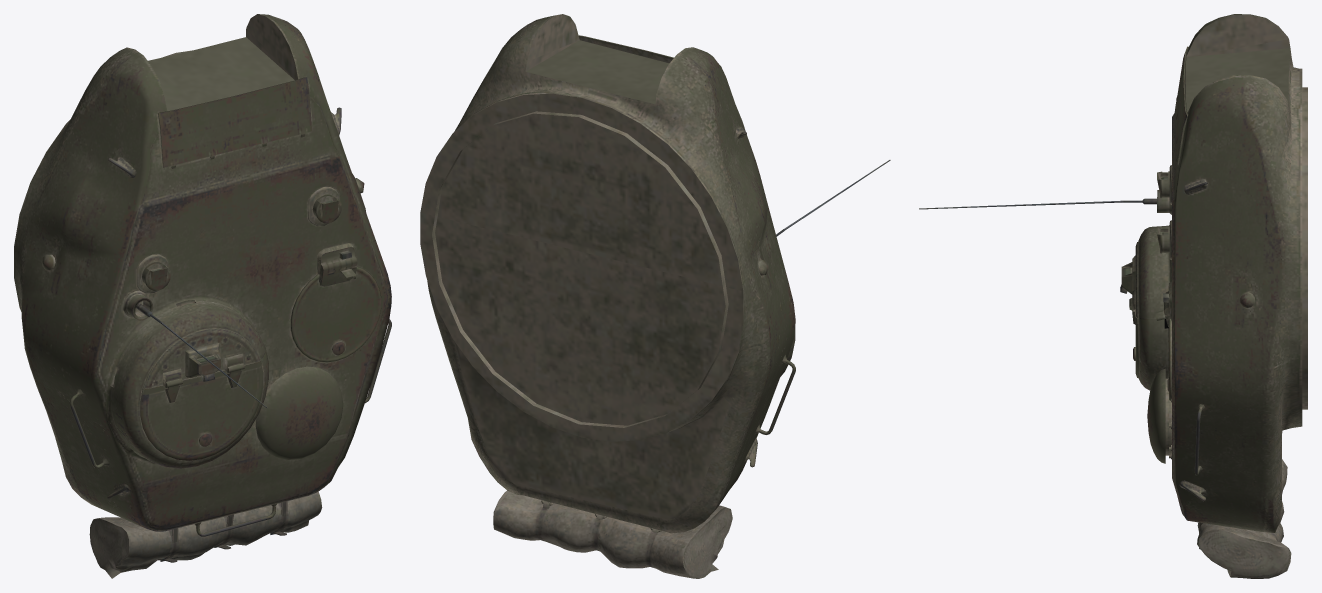
File: Turret_01.glb
The picture shows the model from 3 angles, left to right: view 1: azimuth 30°, elevation 25°; view 2: azimuth 150°, elevation 25°; view 3: azimuth 270°, elevation 25°; orthographic projection. The views are drawn at different scales.
Visible parts, largest first — view 1: set_0_group_0; view 2: set_0_group_0; view 3: set_0_group_0.
Part boxes in pixels (x1=…): set_0_group_0: x1=14, y1=14, x2=391, y2=578; set_0_group_0: x1=420, y1=14, x2=890, y2=578; set_0_group_0: x1=919, y1=14, x2=1307, y2=578.
Size of the model in its own units: 2.11 by 3.03 by 2.16.
Materials: 1 (1 with a texture image).
